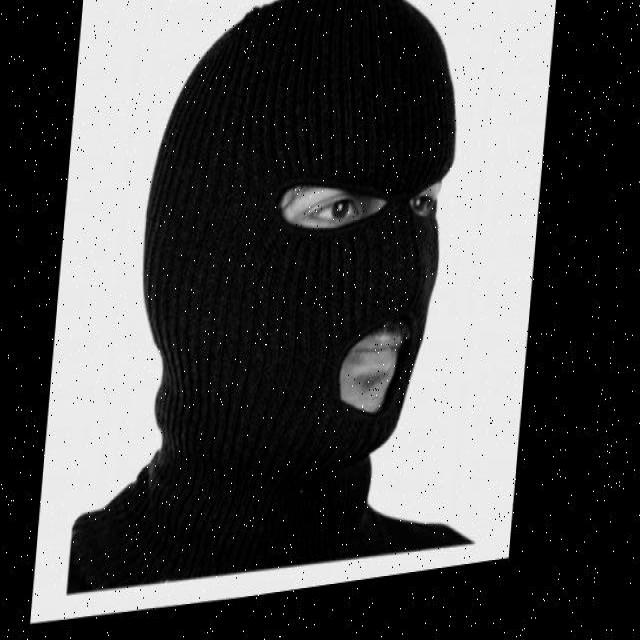6_pasamontana: (73, 0, 456, 546)
